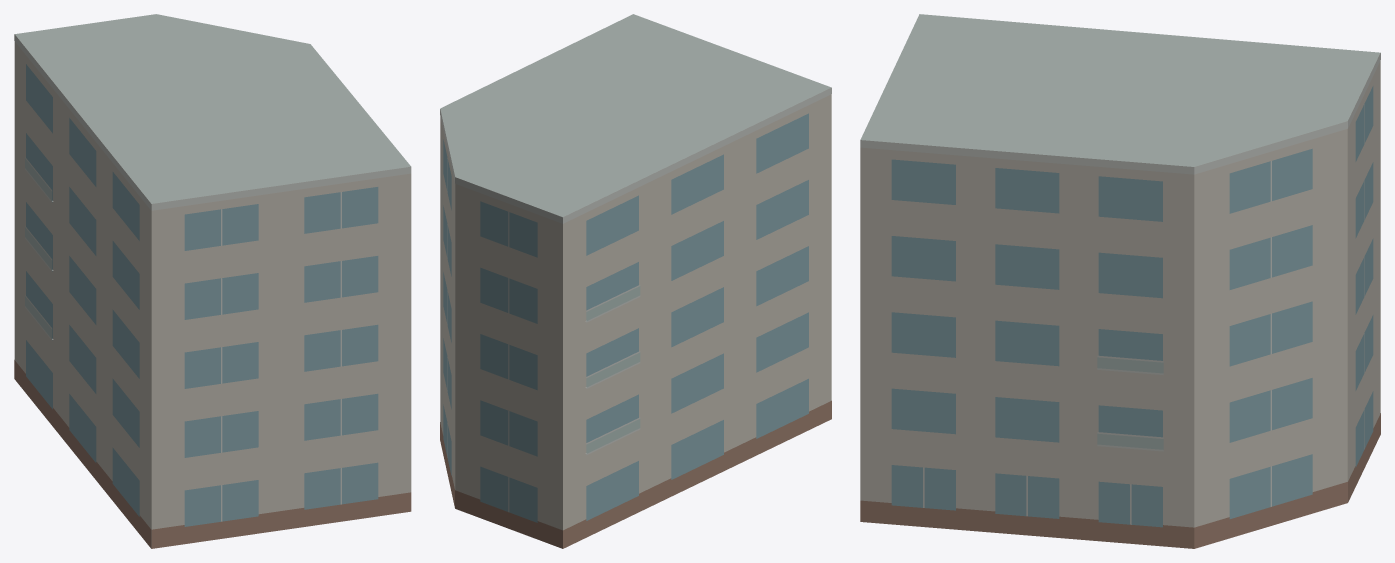
The model's file is survey-upis-32668476.glb.
The picture shows the model from 3 angles, left to right: view 1: azimuth 30°, elevation 25°; view 2: azimuth 150°, elevation 25°; view 3: azimuth 270°, elevation 25°; orthographic projection. The views are drawn at different scales.
Parts seen in each view (by area): view 1: survey-upis-32668476.tmp; view 2: survey-upis-32668476.tmp; view 3: survey-upis-32668476.tmp.
Part boxes in pixels (<box>): survey-upis-32668476.tmp: <box>14,14,411,548</box>; survey-upis-32668476.tmp: <box>440,14,831,548</box>; survey-upis-32668476.tmp: <box>860,14,1380,548</box>.
Bounding box in the file's own units: 10.58 × 12.3 × 15.2.
